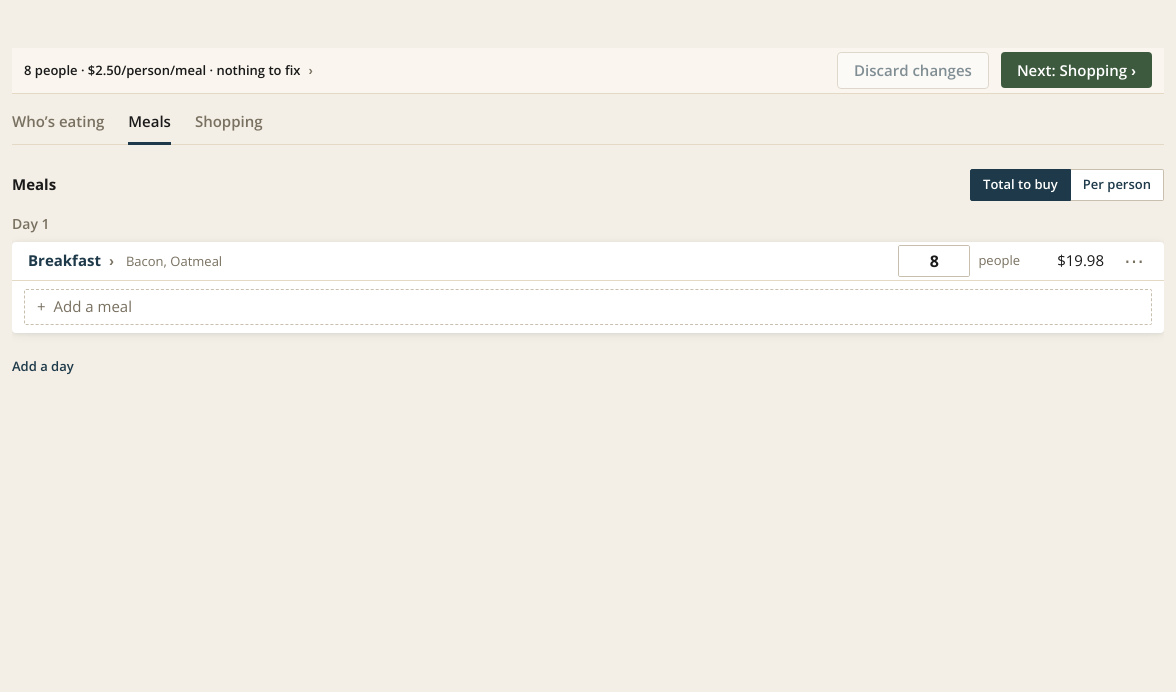
Test: LocalPlan › Visitor_OpensAMeal_WithUnsavedChanges_AndKeepsThem
The width and height of the screenshot is (1176, 692).
Click the button "Add a day" at [43, 366], box [12,349,74,384]
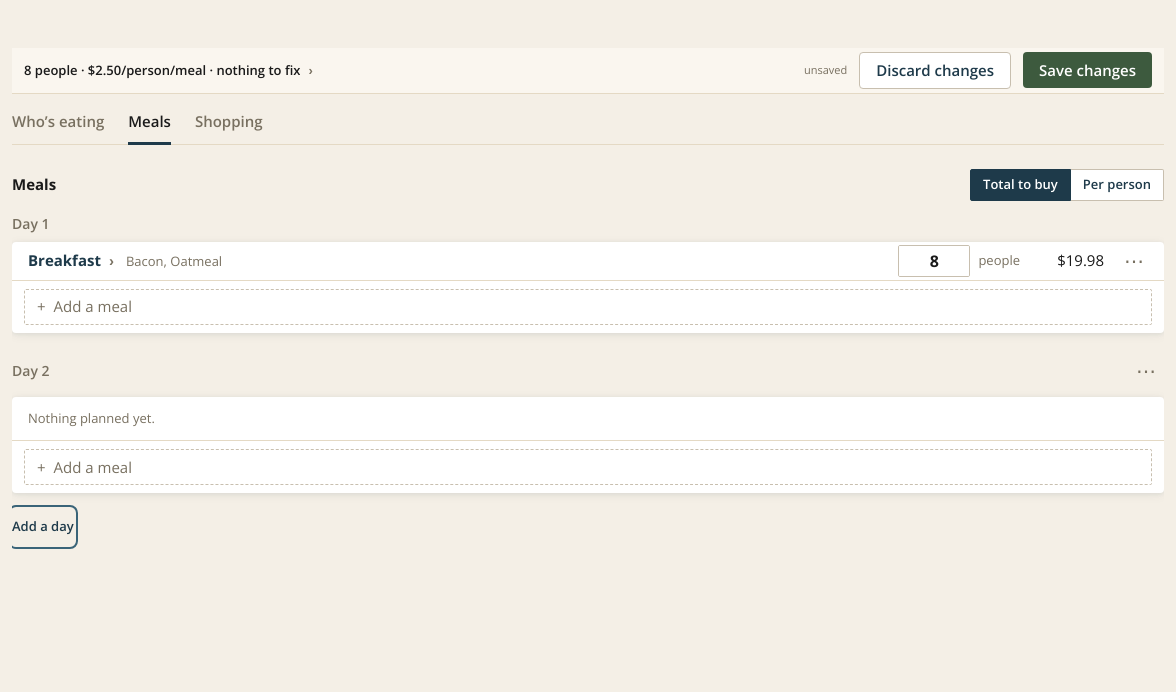
Click the button "Breakfast ›" at [71, 261], box [28,249,114,272]
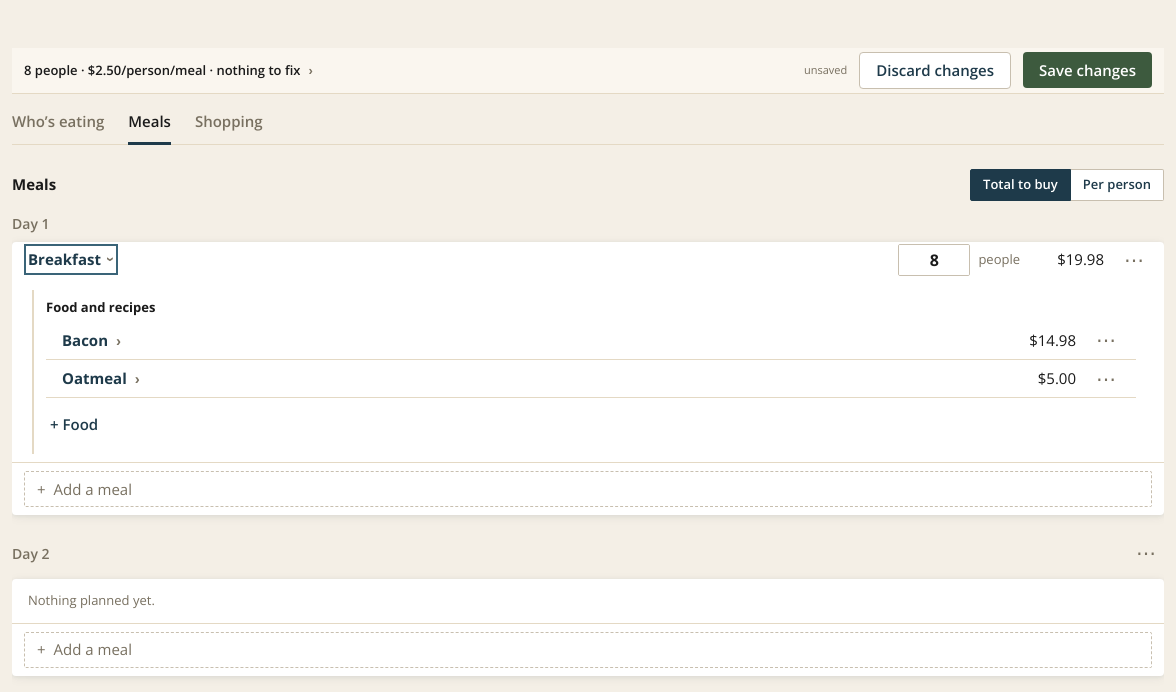
Check: the list named "Recipes in" is shown, box [46,321,1136,397]
